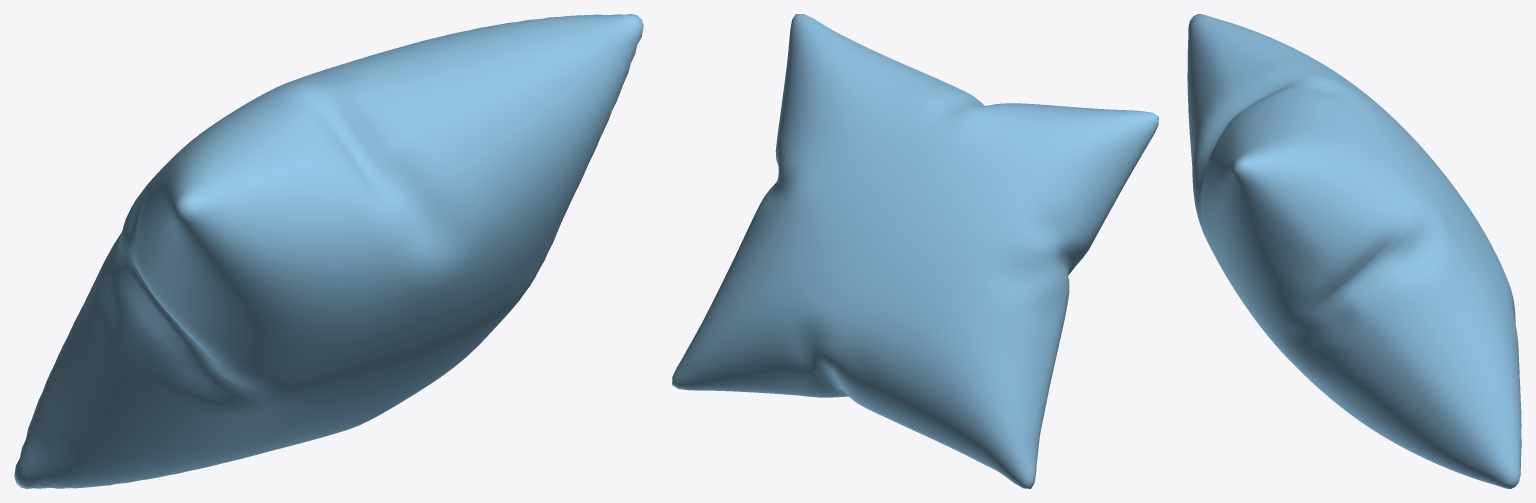
The model's file is Cojin ATM.glb.
3 renders of one model, left to right at view 1: azimuth 30°, elevation 25°; view 2: azimuth 150°, elevation 25°; view 3: azimuth 270°, elevation 25°, orthographic. The views are drawn at different scales.
Parts seen in each view (by area): view 1: Cama_Cojin ATM; view 2: Cama_Cojin ATM; view 3: Cama_Cojin ATM.
Part boxes in pixels (bbox=[...]): Cama_Cojin ATM: bbox=[14, 14, 643, 488]; Cama_Cojin ATM: bbox=[672, 14, 1158, 488]; Cama_Cojin ATM: bbox=[1187, 14, 1521, 488].
Bounding box in the file's own units: 0.5295 × 0.4706 × 0.3901.
